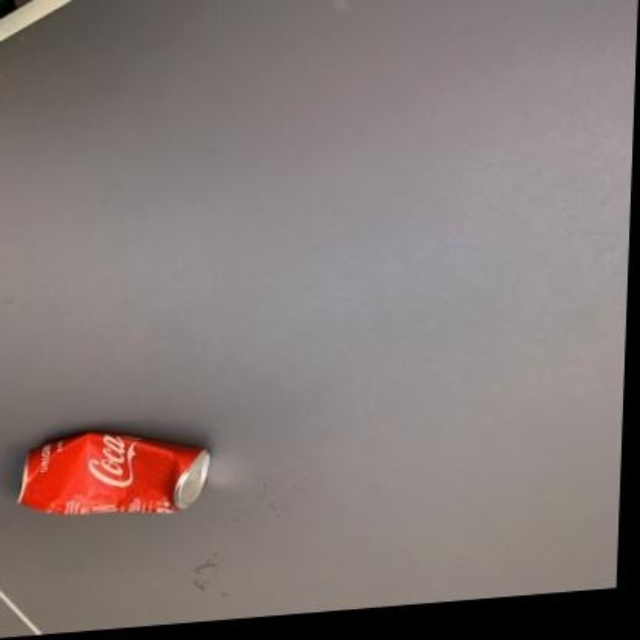trash: (18, 432, 209, 514)
